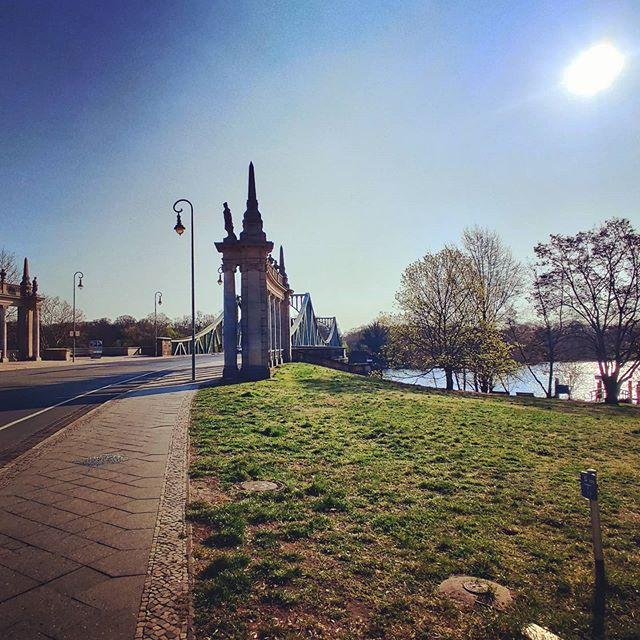bridge: (228, 282, 360, 381)
grass: (231, 372, 640, 640)
light pole: (169, 188, 201, 387), (61, 259, 87, 365), (147, 282, 172, 360)
sky: (2, 1, 632, 244)
street: (1, 340, 211, 616)
sun: (558, 41, 627, 107)
tree: (379, 234, 513, 397), (523, 218, 640, 403)
